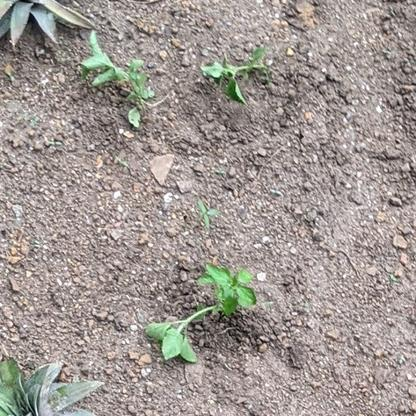pineapple: (1, 354, 107, 416), (1, 1, 96, 48)
weed: (145, 261, 257, 364), (82, 28, 159, 106), (201, 45, 275, 106)
